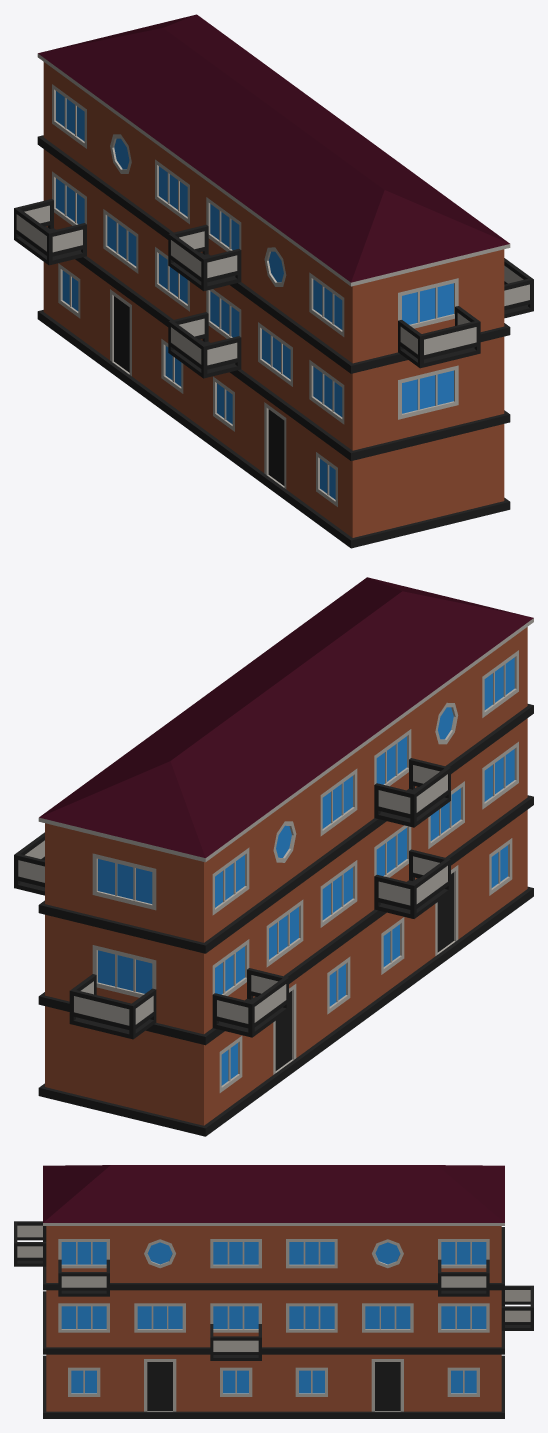
The model's file is build_.fbx.
3 renders of one model, top to bottom at view 1: azimuth 30°, elevation 25°; view 2: azimuth 150°, elevation 25°; view 3: azimuth 270°, elevation 25°, orthographic. The views are drawn at different scales.
Visible parts, largest first — view 1: building_002.001; view 2: building_002.001; view 3: building_002.001.
Boxes of the visible parts, <box> form: building_002.001: <box>14,14,533,548</box>; building_002.001: <box>14,577,533,1136</box>; building_002.001: <box>14,1165,533,1418</box>.
Bounding box in the file's own units: 600 × 1612 × 770.
